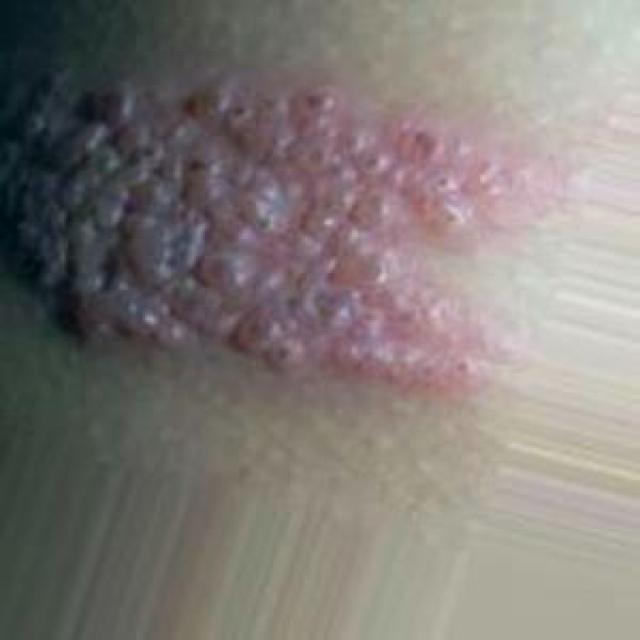Shingles: (0, 65, 548, 392)
